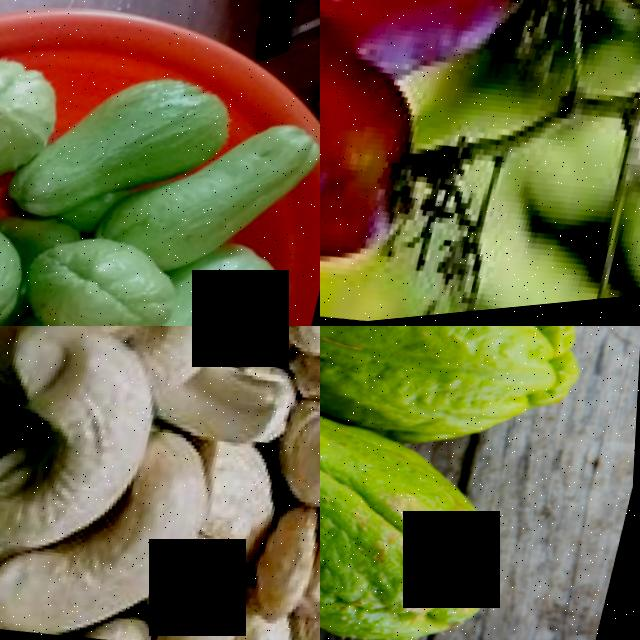cashew: (0, 475, 206, 640), (0, 363, 168, 561)
chayote: (320, 436, 547, 640), (320, 326, 640, 449), (45, 41, 241, 241), (156, 149, 320, 326), (0, 35, 67, 215), (147, 269, 302, 326)
